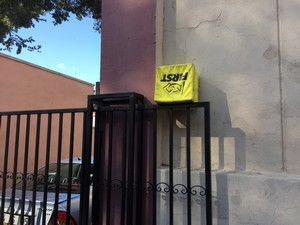cube: (154, 65, 199, 107)
